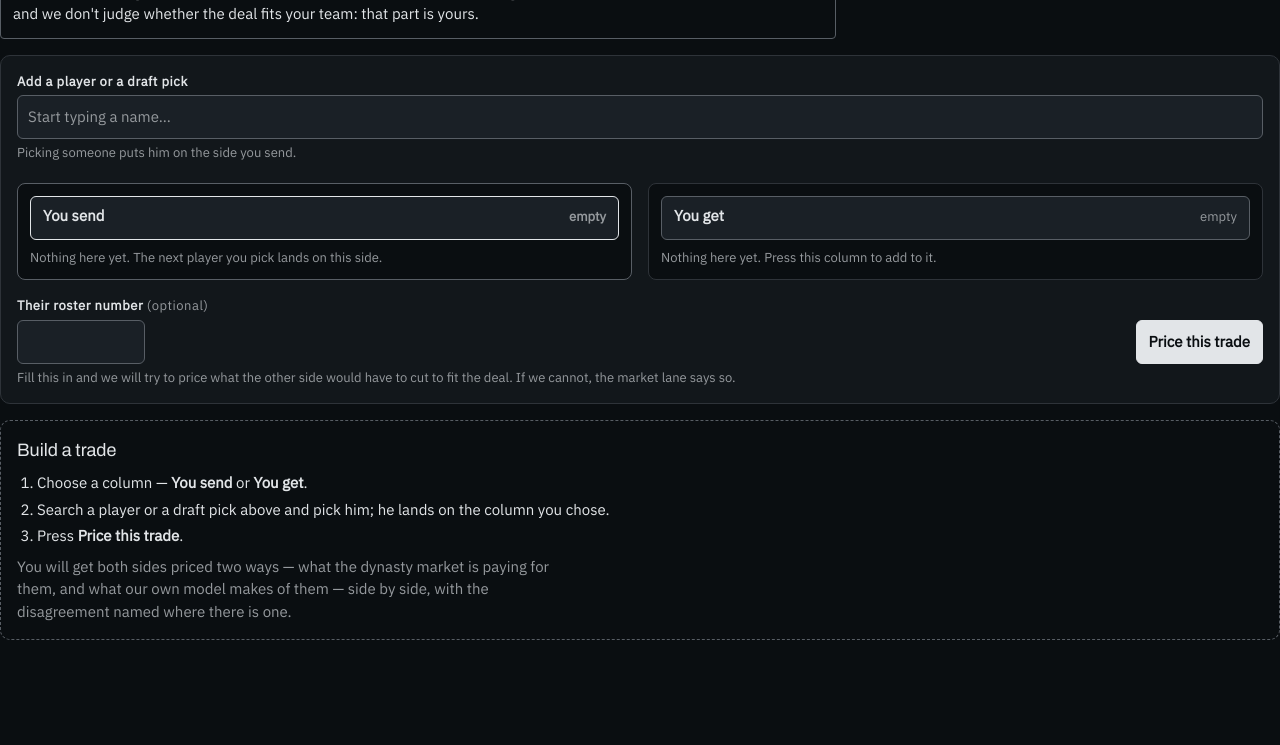
Scenario: Trade Lab — both prices, plainly › states the arithmetic on BOTH pricings in plain sentences
The width and height of the screenshot is (1280, 745).
Type "cha" into the search field. click: (640, 117)
box: [17,95,1263,139]
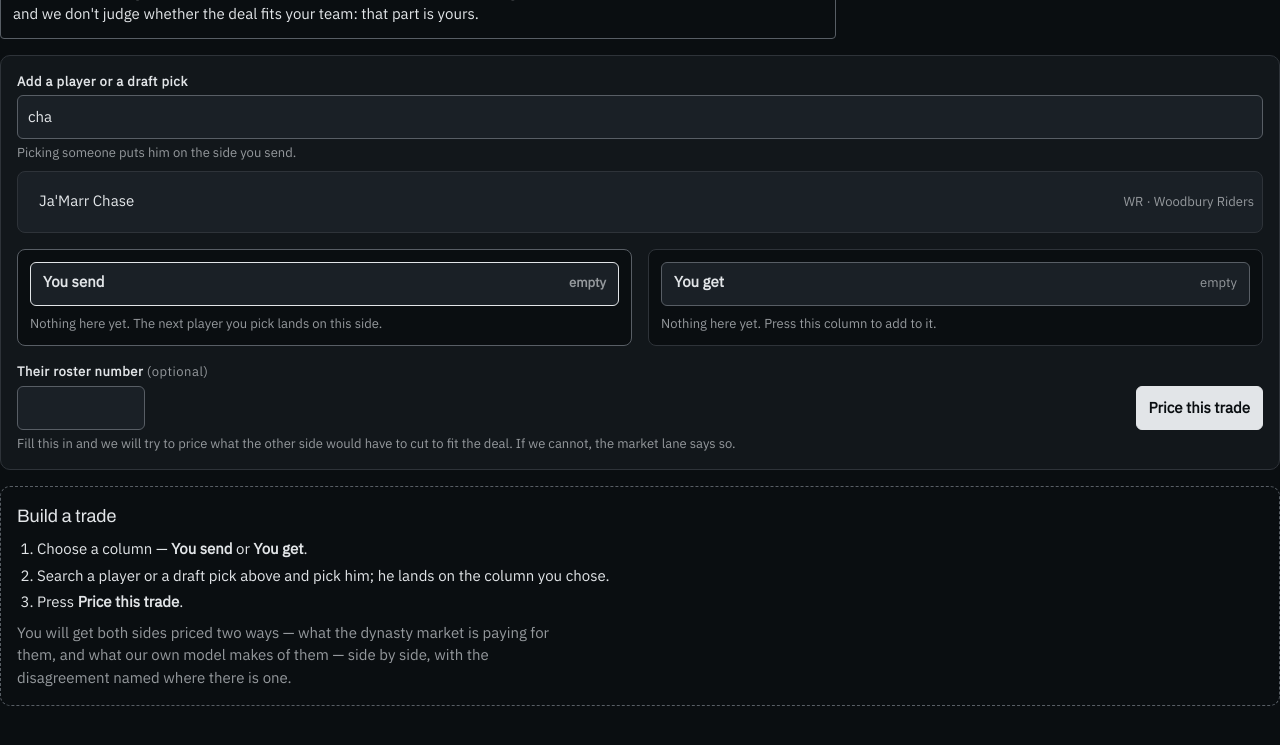
Click the button "Ja'Marr Chase". click: click(87, 201)
box: [26,180,1116,224]
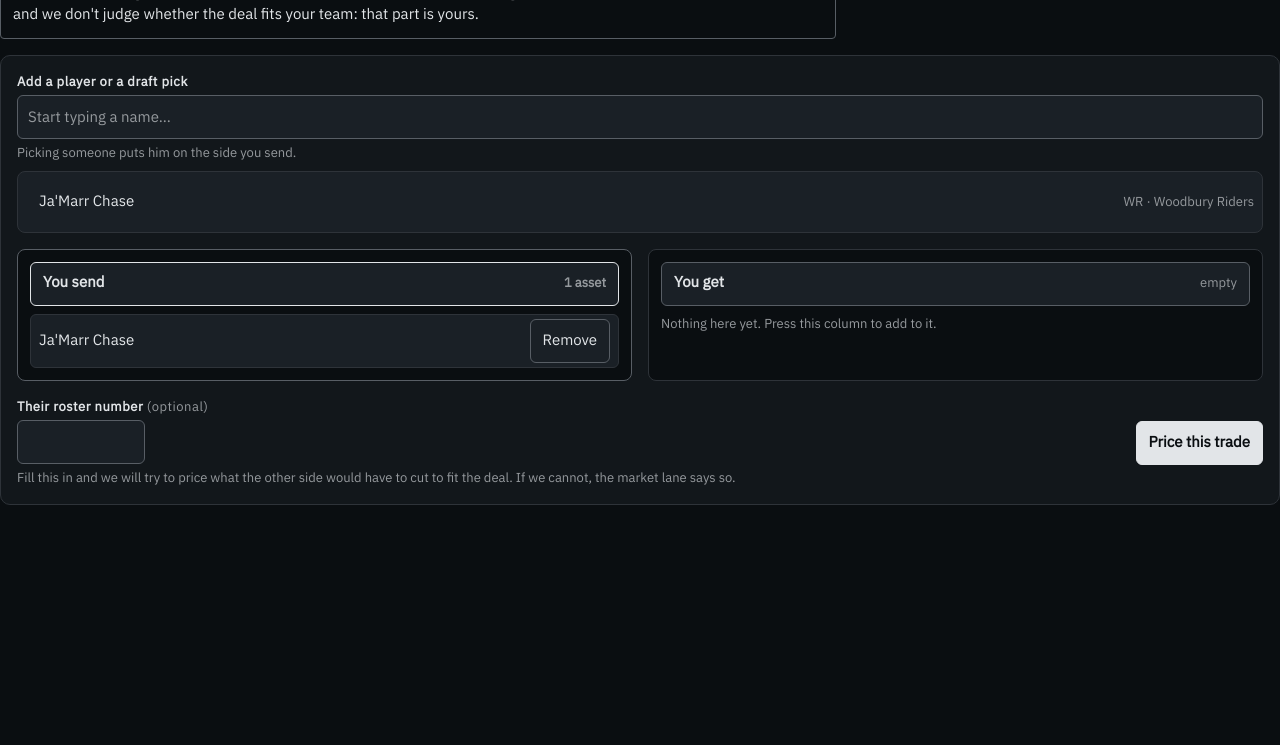
Click the button "Price this trade". click: click(1199, 442)
box: [1136,420,1263,464]
(page scrolled)
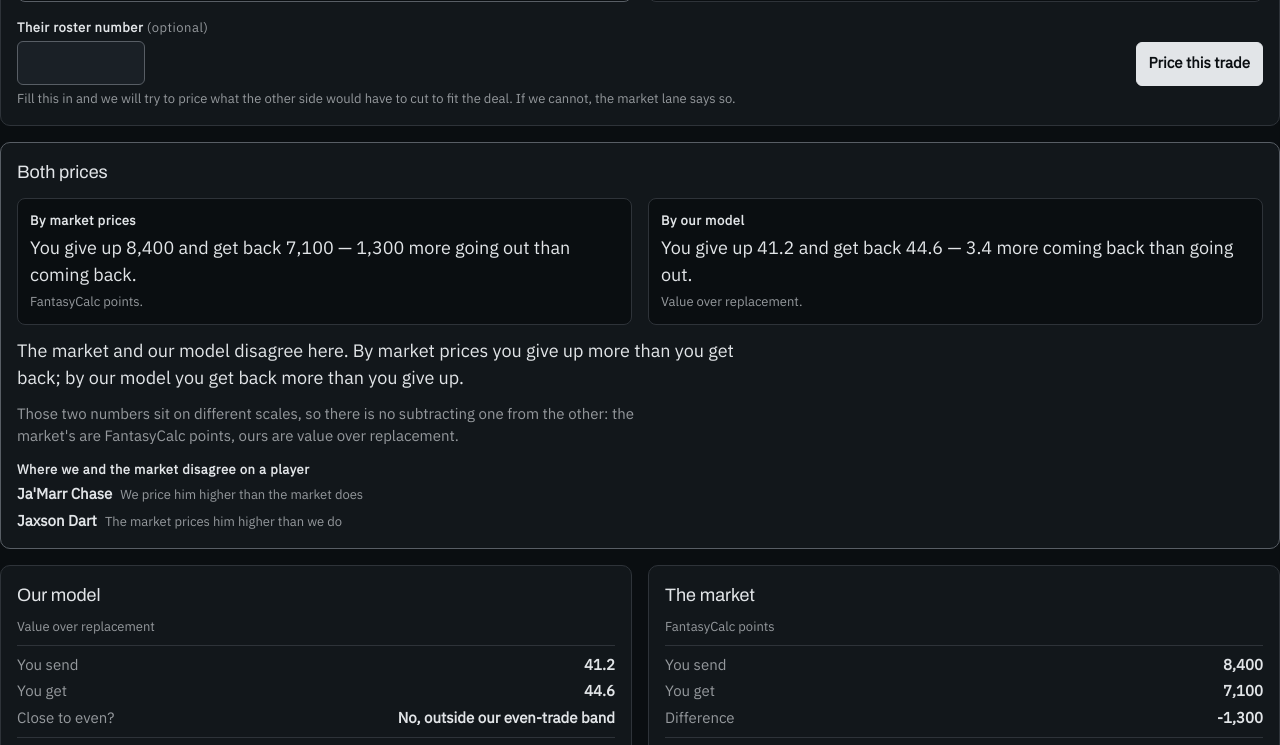
Result: the element with test id "trade-verdict" is shown at [0,142,1279,549]
Result: the element with test id "trade-verdict" shows "By market prices" at [30,212,136,228]
Result: the element with test id "trade-verdict" shows "by our model" at [661,212,744,228]
